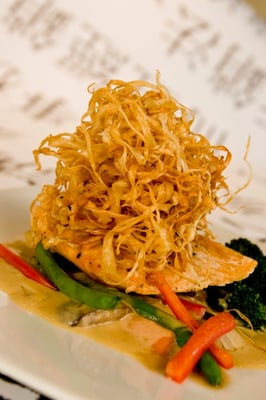pizza: (163, 312, 236, 384), (149, 271, 201, 333), (209, 343, 235, 369)
